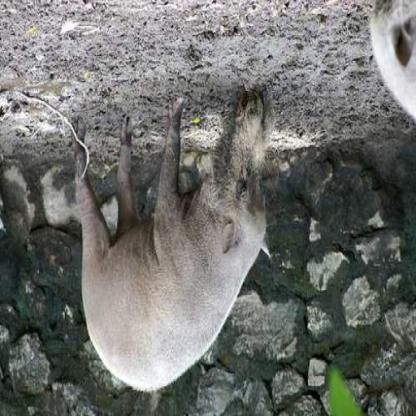boar: (67, 73, 295, 383)
